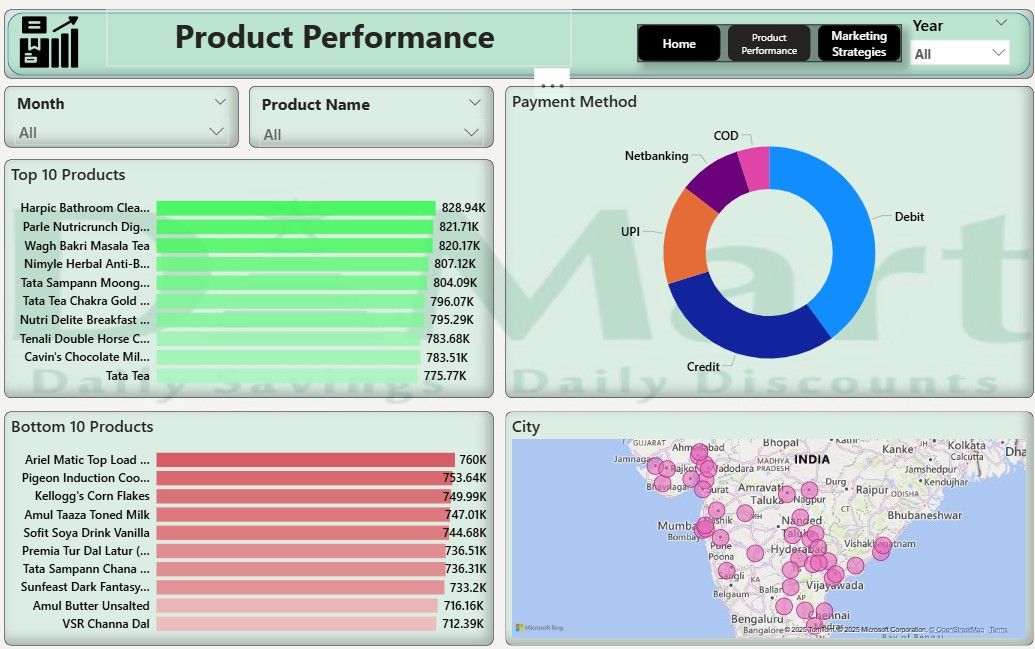

This screenshot's page, from the dashboard's own definition file:
{"tool":"powerbi","page":{"name":"Product Performance","canvas":[1400,870],"ordinal":1},"visuals":[{"type":"shape","box":[14,14,1372,92],"z":0},{"type":"textbox","box":[150,14,620,76],"z":1000},{"type":"slicer","fields":{"Values":["Dmart+Dataset_Tableau.Year_1"]},"box":[1212,14,152,106],"z":2000},{"type":"barChart","title":"Top 10 Products","fields":{"Y":["Dmart+Dataset_Tableau.Total Sales"],"Category":["Dmart+Dataset_Tableau.Product Name"]},"box":[14,214,652,318],"z":3000},{"type":"slicer","fields":{"Values":["Dmart+Dataset_Tableau.Product Name"]},"box":[340,116,326,82],"z":5000},{"type":"slicer","fields":{"Values":["Dmart+Dataset_Tableau.Order Date.Variation.Date Hierarchy.Month"]},"box":[14,116,312,82],"z":6000},{"type":"barChart","title":"Bottom 10 Products","fields":{"Y":["Dmart+Dataset_Tableau.Total Sales"],"Category":["Dmart+Dataset_Tableau.Product Name"]},"box":[14,550,652,312],"z":7000},{"type":"map","fields":{"Category":["Dmart+Dataset_Tableau.City"]},"box":[682,550,704,312],"z":8000},{"type":"image","box":[14,0,118,114],"z":9000},{"type":"donutChart","title":"Payment Method","fields":{"Category":["Dmart+Dataset_Tableau.Payment Method"],"Y":["Sum(Dmart+Dataset_Tableau.Total Order Value)"]},"box":[682,116,704,416],"z":10000},{"type":"pageNavigator","box":[858,34,352,50],"z":11000}]}

Visuals, with their boxes in screenshot pixels (x1, y1, x2, y2), scaled from the page's 1400x870 canvas onto the 1035x649 screenshot:
shape: x1=10 y1=10 x2=1025 y2=79
textbox: x1=111 y1=10 x2=569 y2=67
slicer - Dmart+Dataset_Tableau.Year_1: x1=896 y1=10 x2=1008 y2=90
"Top 10 Products" barChart: x1=10 y1=160 x2=492 y2=397
slicer - Dmart+Dataset_Tableau.Product Name: x1=251 y1=87 x2=492 y2=148
slicer - Dmart+Dataset_Tableau.Order Date.Variation.Date Hierarchy.Month: x1=10 y1=87 x2=241 y2=148
"Bottom 10 Products" barChart: x1=10 y1=410 x2=492 y2=643
map - Dmart+Dataset_Tableau.City: x1=504 y1=410 x2=1025 y2=643
image: x1=10 y1=0 x2=98 y2=85
"Payment Method" donutChart: x1=504 y1=87 x2=1025 y2=397
pageNavigator: x1=634 y1=25 x2=895 y2=63
